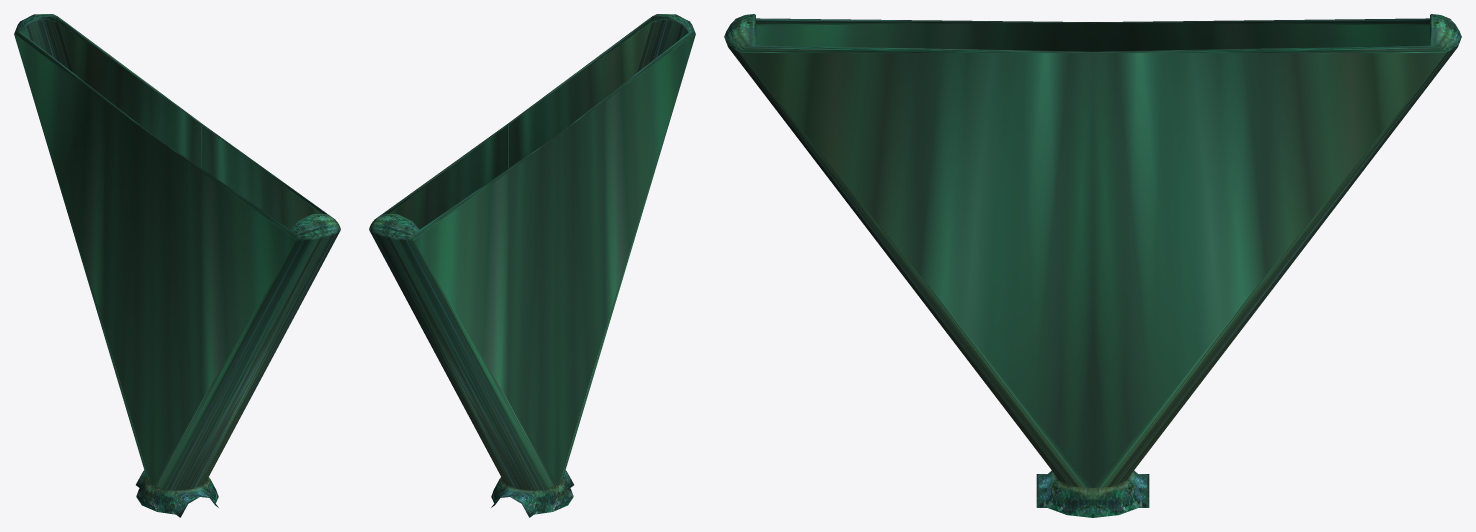
The picture shows the model from 3 angles, left to right: view 1: azimuth 30°, elevation 25°; view 2: azimuth 150°, elevation 25°; view 3: azimuth 270°, elevation 25°; orthographic projection. The views are drawn at different scales.
Visible parts, largest first — view 1: frame_0; view 2: frame_0; view 3: frame_0.
Boxes of the visible parts, x1,y1,x2,y2 form: frame_0: [14, 14, 340, 517]; frame_0: [369, 14, 695, 517]; frame_0: [724, 14, 1461, 517].
Bounding box in the file's own units: 1.83 × 9.37 × 13.12.
1 material, 1 textured.
